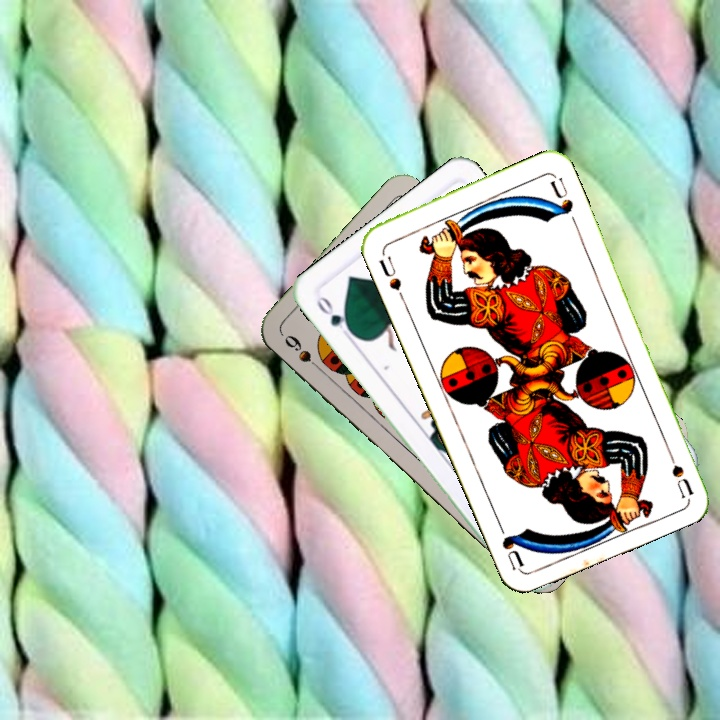GO: (312, 291, 358, 343)
S9: (280, 330, 327, 376)
SU: (661, 441, 696, 499), (375, 252, 408, 303)
